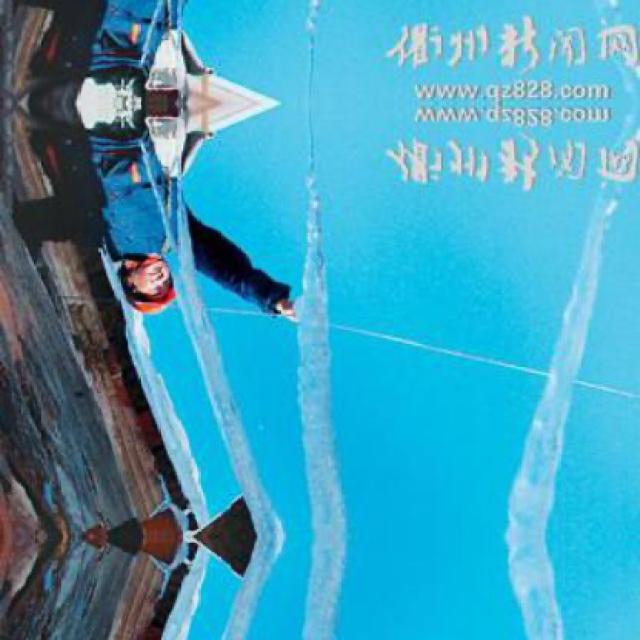con casco: (80, 247, 188, 326)
